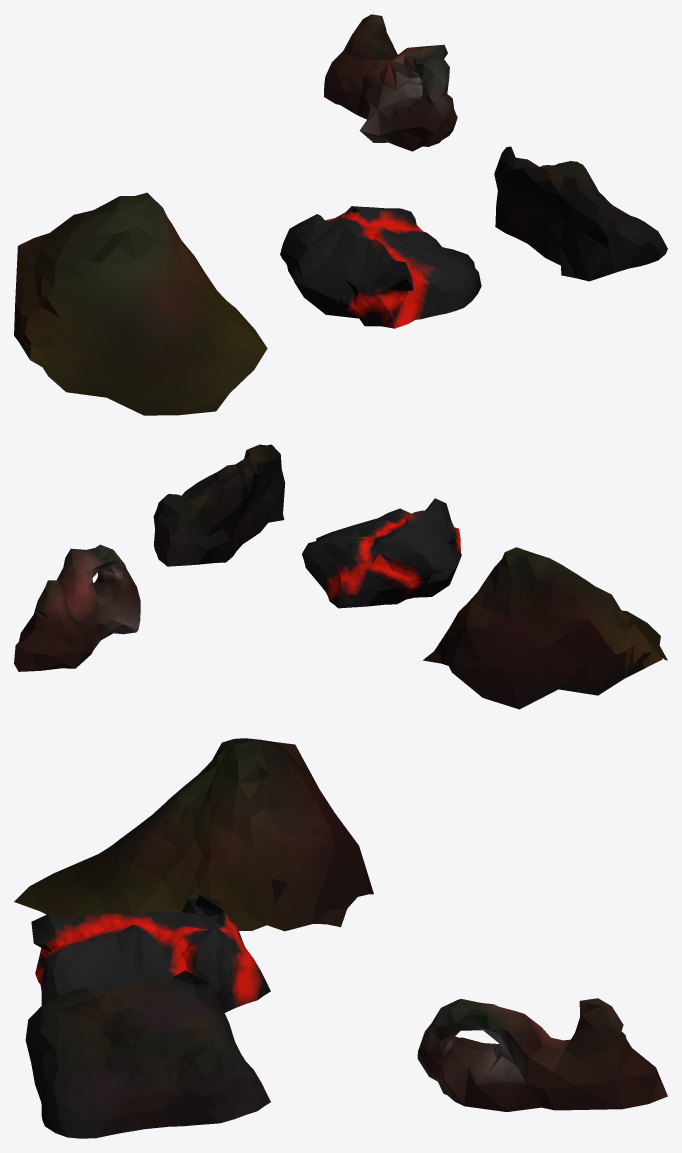
Rendered from reefs.fbx.
3 views of the same model, one above another, from view 1: azimuth 30°, elevation 25°; view 2: azimuth 150°, elevation 25°; view 3: azimuth 270°, elevation 25° (orthographic). The views are drawn at different scales.
Visible parts, largest first — view 1: reefs4, reefs3, reefs2, reefs1; view 2: reefs4, reefs3, reefs2, reefs1; view 3: reefs4, reefs2, reefs1, reefs3.
Boxes of the visible parts, x1,y1,x2,y2 form: reefs4: (14,192,267,415); reefs3: (280,206,481,328); reefs2: (494,146,667,281); reefs1: (324,14,457,151); reefs4: (423,547,667,709); reefs3: (302,498,461,608); reefs2: (153,444,285,566); reefs1: (14,544,140,671); reefs4: (14,738,373,931); reefs2: (25,970,270,1138); reefs1: (417,998,667,1111); reefs3: (31,894,270,1012).
Bounding box in the file's own units: 2199 × 496 × 1805.
